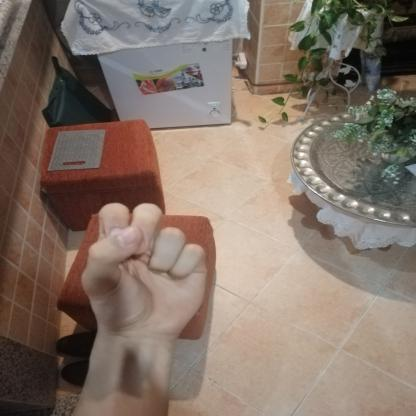QAAF: (62, 192, 226, 355)
